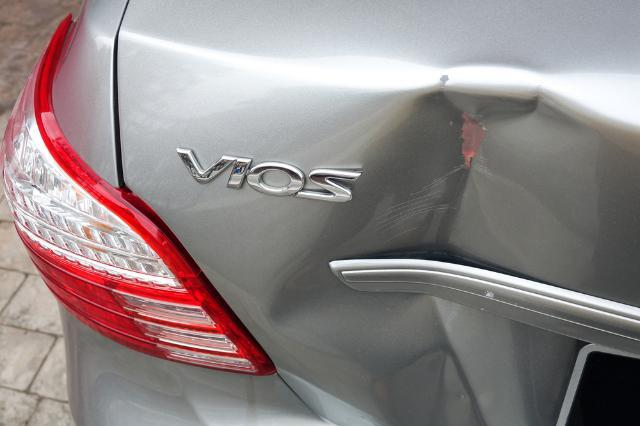dent: (279, 76, 593, 426)
